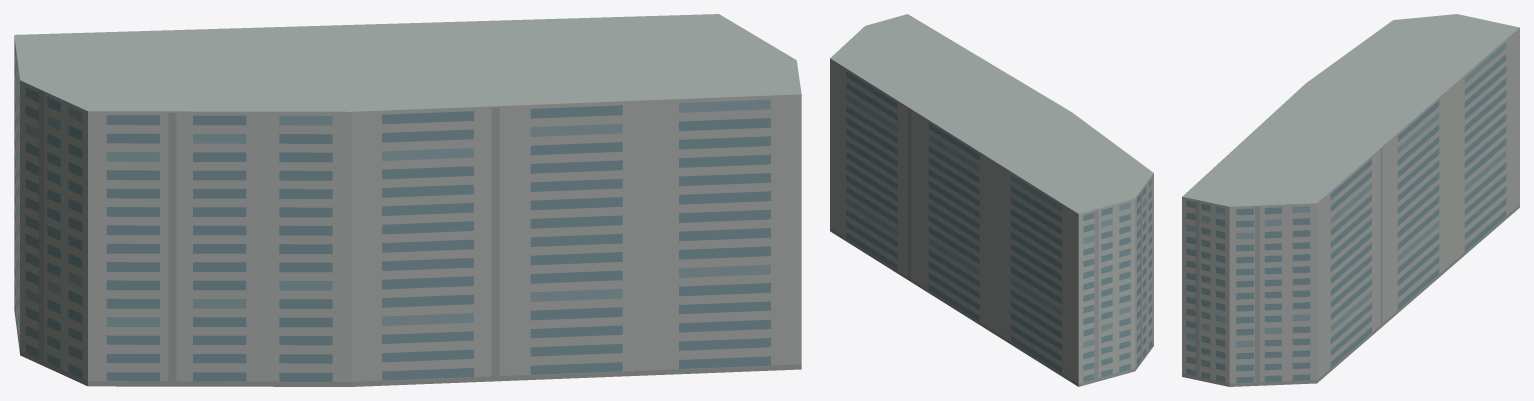
Rendered from residential-06573da0-9593-48ca-af1b-4cce5b558c02.glb.
3 views of the same model, side by side, from view 1: azimuth 30°, elevation 25°; view 2: azimuth 150°, elevation 25°; view 3: azimuth 270°, elevation 25° (orthographic). The views are drawn at different scales.
Parts seen in each view (by area): view 1: residential-06573da0-9593-48ca-af1b-4cce5b558c02.tmp; view 2: residential-06573da0-9593-48ca-af1b-4cce5b558c02.tmp; view 3: residential-06573da0-9593-48ca-af1b-4cce5b558c02.tmp.
Part boxes in pixels (left/top/right/bottom): residential-06573da0-9593-48ca-af1b-4cce5b558c02.tmp: left=14, top=14, right=801, bottom=386; residential-06573da0-9593-48ca-af1b-4cce5b558c02.tmp: left=830, top=14, right=1153, bottom=386; residential-06573da0-9593-48ca-af1b-4cce5b558c02.tmp: left=1182, top=14, right=1519, bottom=386.
Size of the model in its own units: 105 by 45.75 by 77.7.
